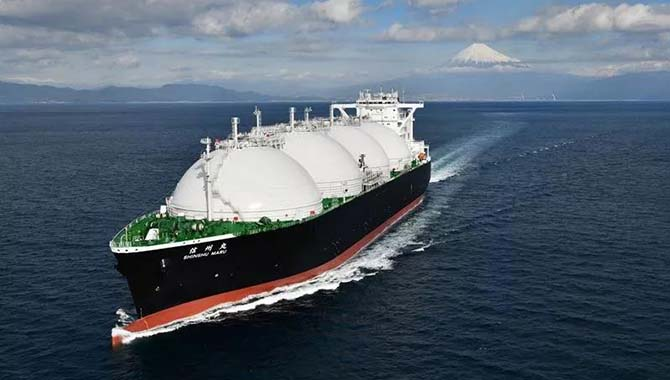Cargoship: (96, 84, 433, 341)
